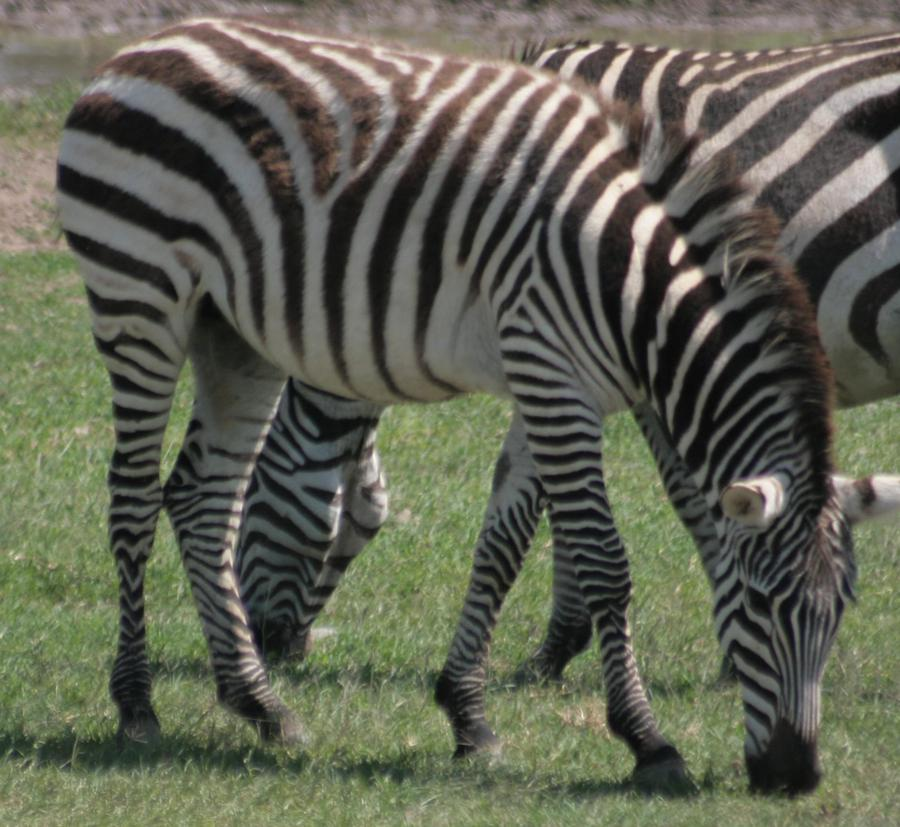zebra_plains: (44, 45, 631, 371)
